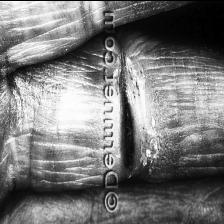Non-Cancerous Skin Condition: (118, 60, 156, 170)
